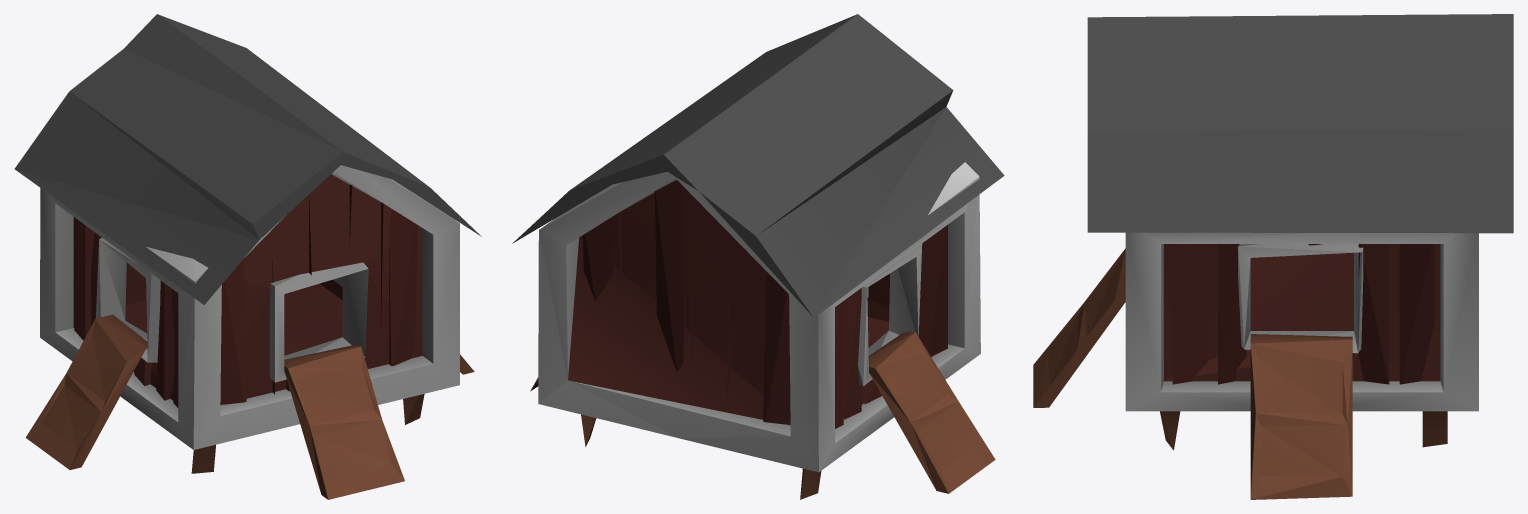
File: farm-coop.glb
3 renders of one model, left to right at view 1: azimuth 30°, elevation 25°; view 2: azimuth 150°, elevation 25°; view 3: azimuth 270°, elevation 25°, orthographic. The views are drawn at different scales.
Parts seen in each view (by area): view 1: farm-coop; view 2: farm-coop; view 3: farm-coop.
Boxes of the visible parts, box(x1,y1,x2,y2) form: farm-coop: box(14, 14, 481, 499); farm-coop: box(512, 14, 1004, 499); farm-coop: box(1033, 14, 1513, 499).
Size of the model in its own units: 2.87 by 2.2 by 2.57.
